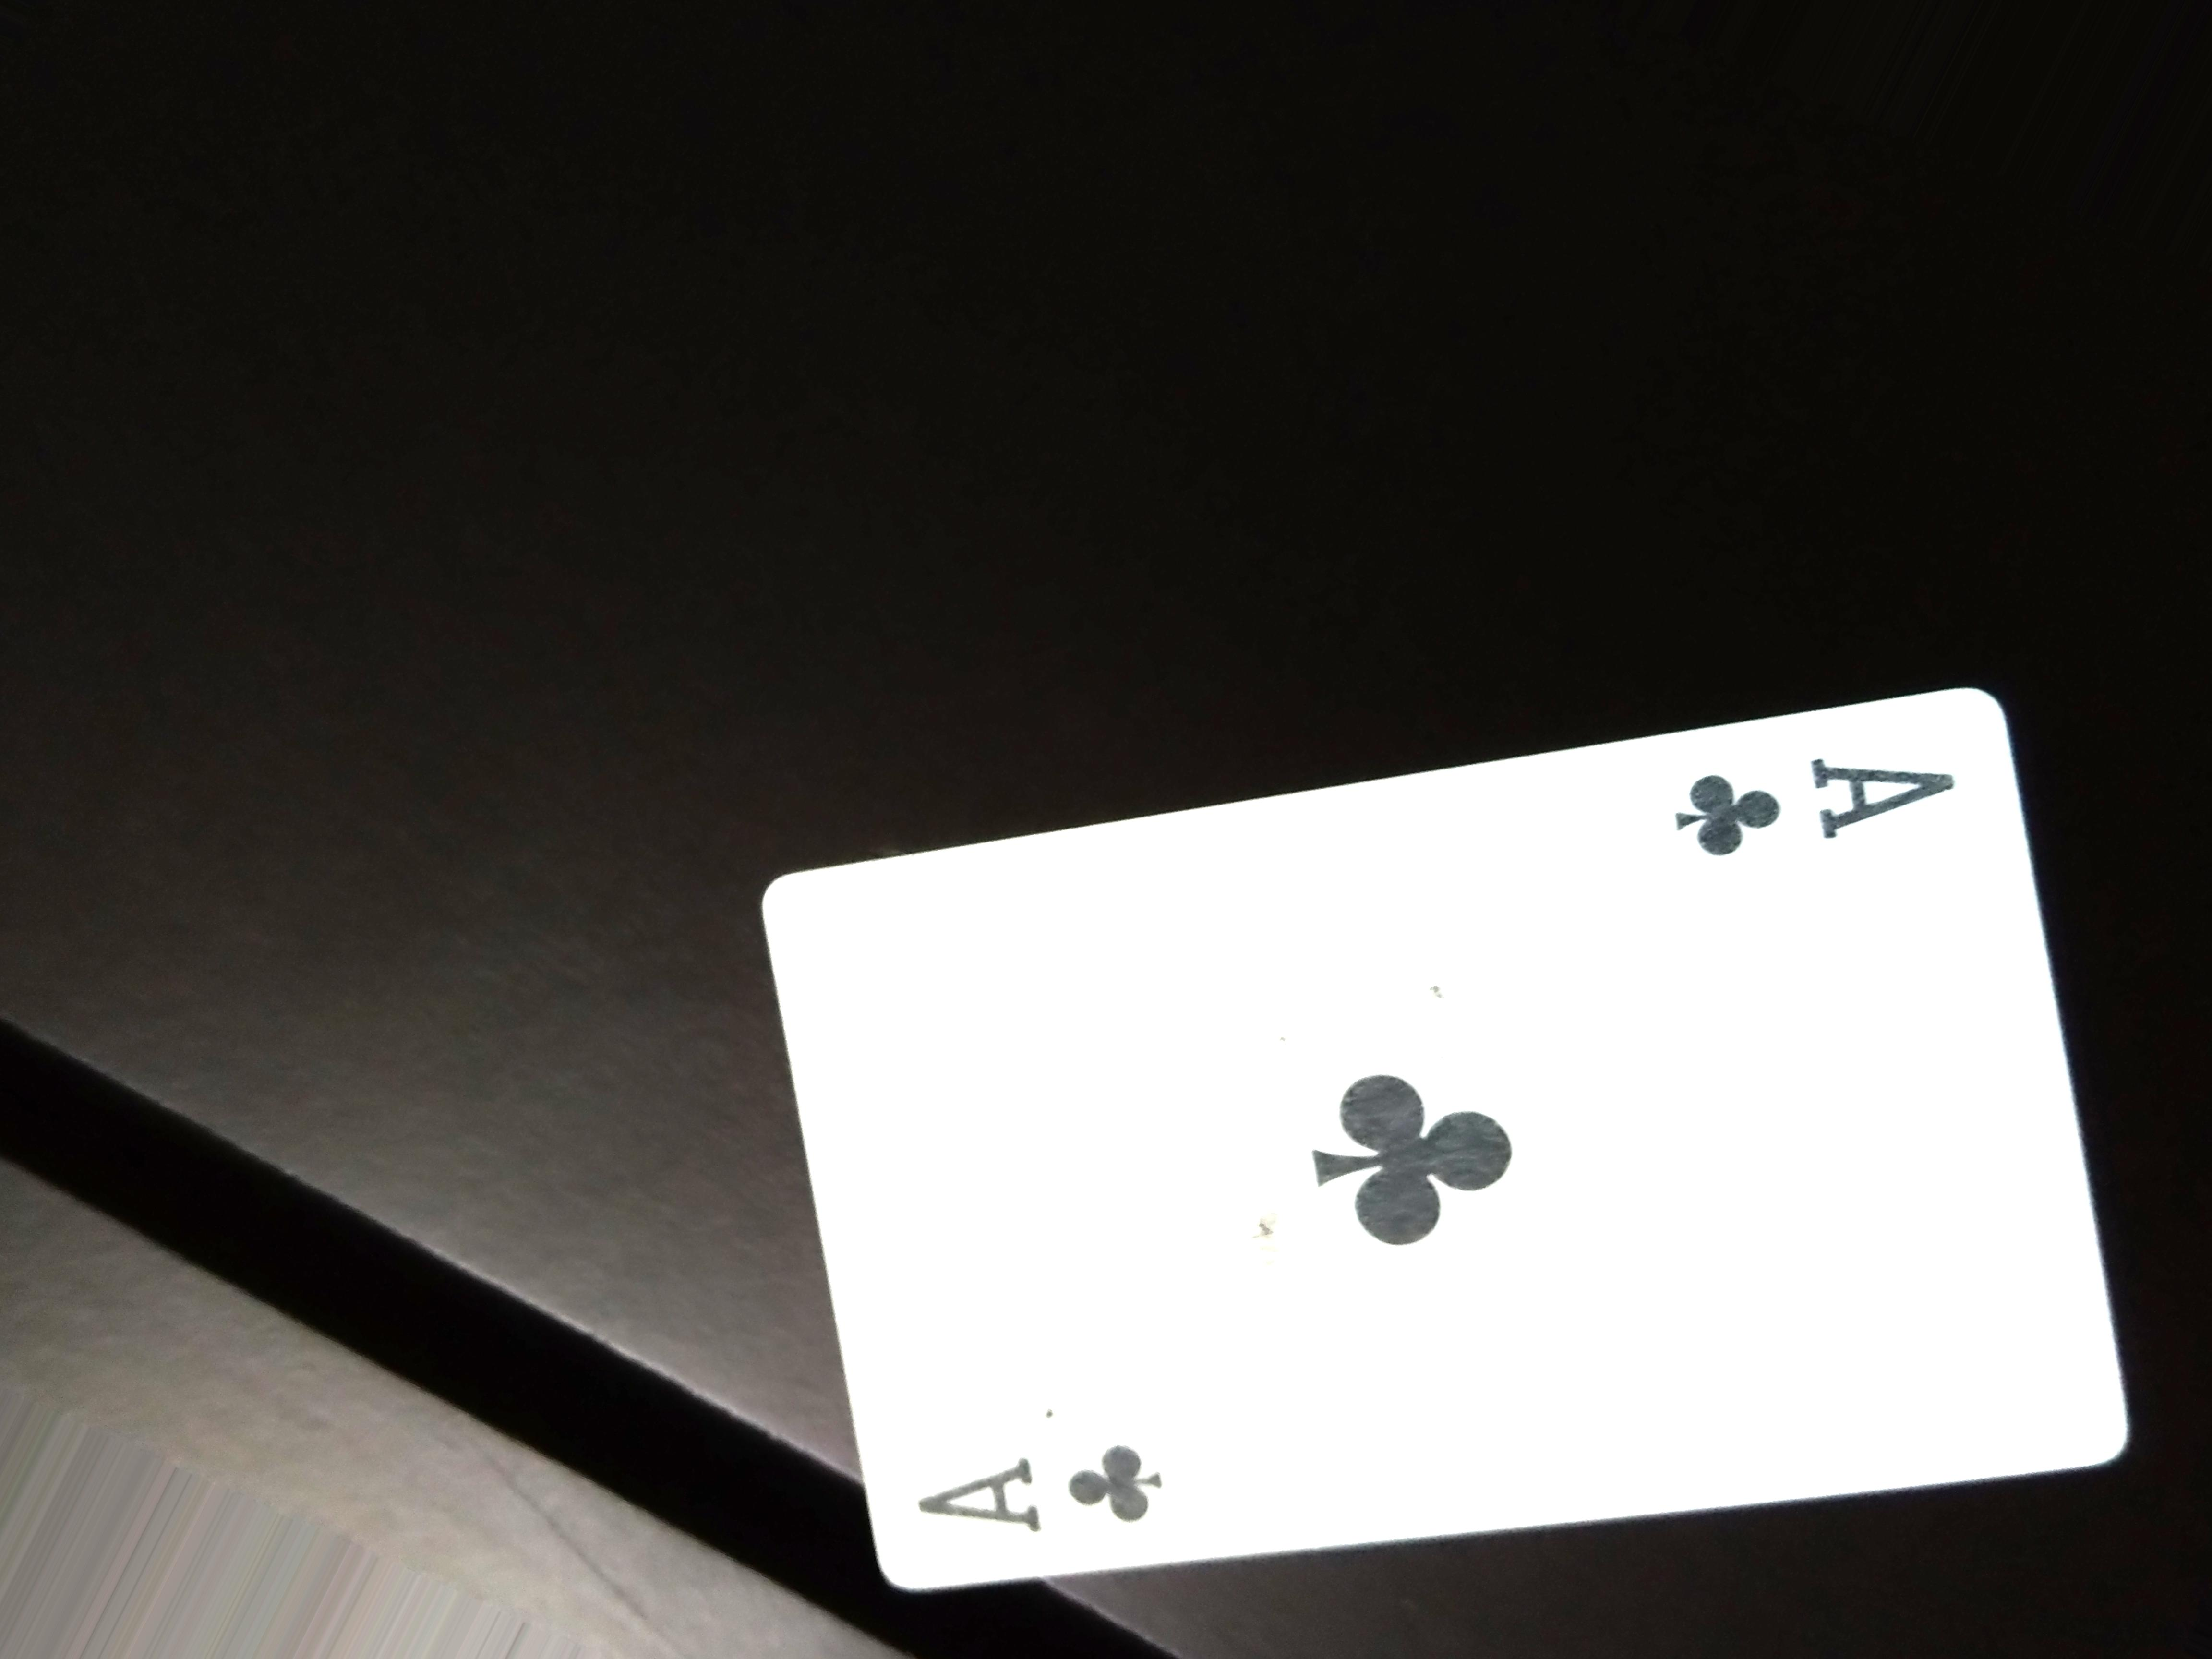AC: (1653, 763, 1980, 861)
